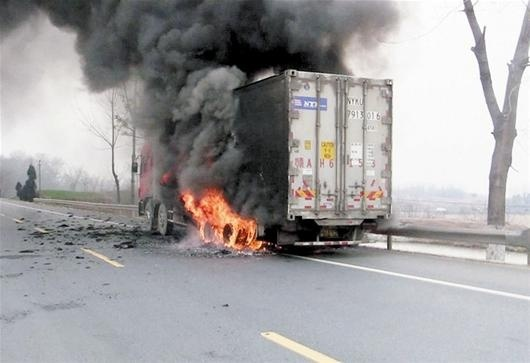fire: (180, 186, 268, 253)
